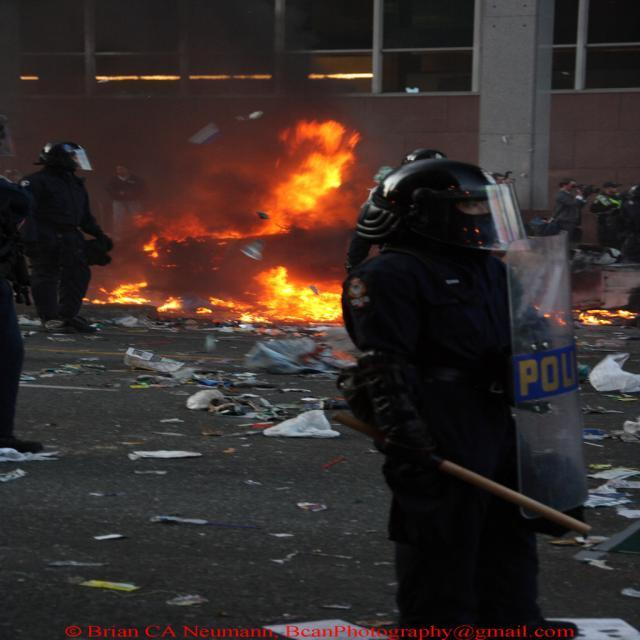Fire: (254, 126, 354, 232), (244, 274, 346, 320)
